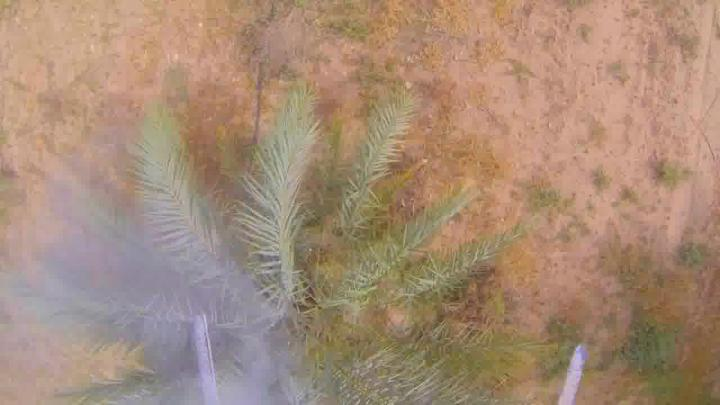Date-Palm-Crown: (152, 195, 418, 404)
